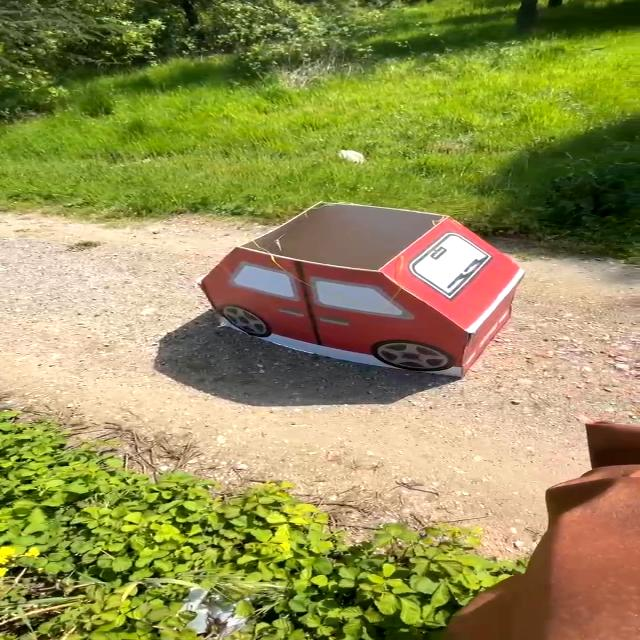red_car: (191, 191, 528, 415)
